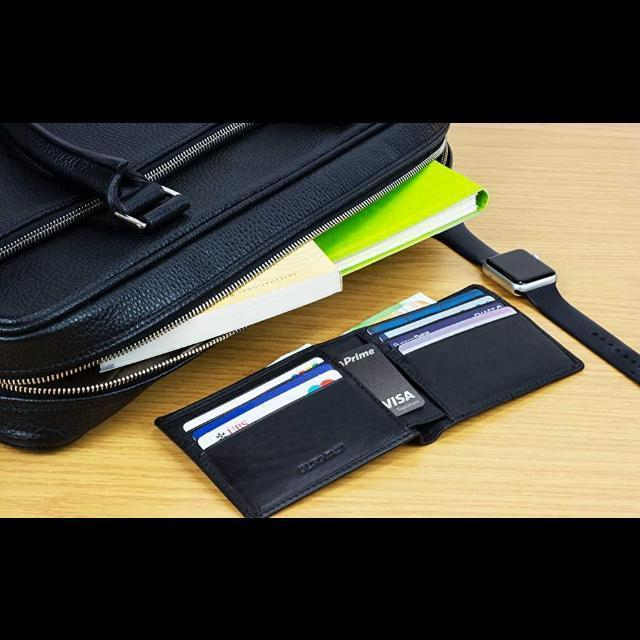wallet: (149, 282, 585, 516)
